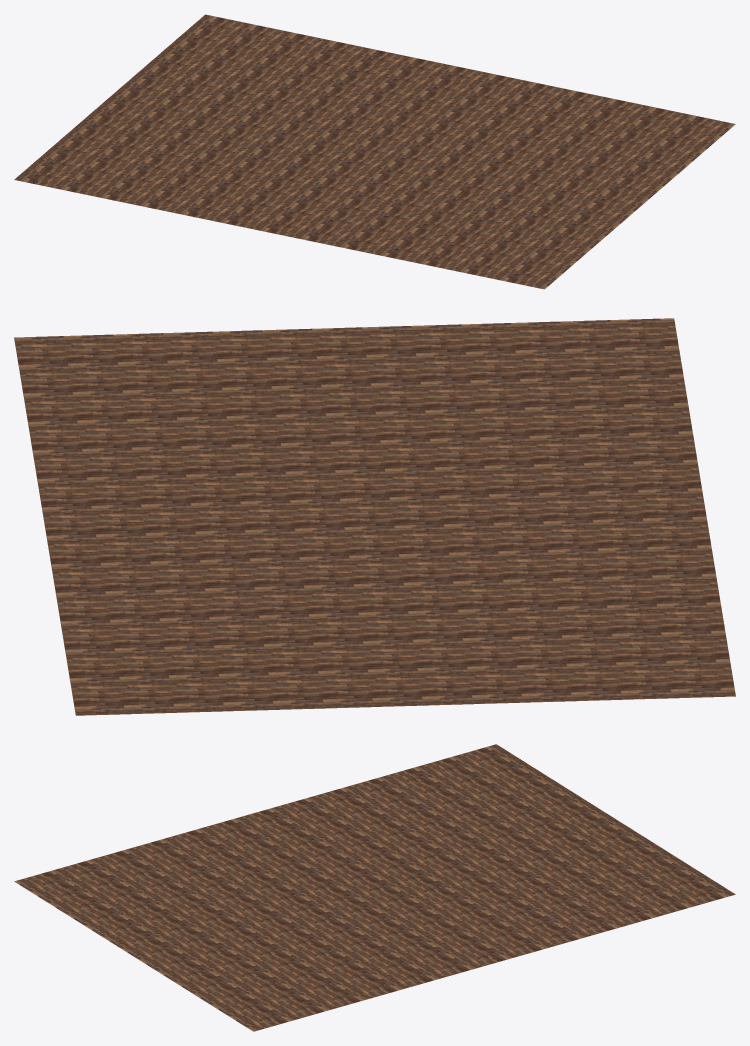
File: floor.glb
The picture shows the model from 3 angles, top to bottom: view 1: azimuth 30°, elevation 25°; view 2: azimuth 150°, elevation 25°; view 3: azimuth 270°, elevation 25°; orthographic projection. The views are drawn at different scales.
Parts seen in each view (by area): view 1: hall.001; view 2: hall.001; view 3: hall.001.
Boxes of the visible parts, x1,y1,x2,y2 form: hall.001: (14, 14, 735, 289); hall.001: (14, 318, 735, 715); hall.001: (14, 744, 735, 1031).
Bounding box in the file's own units: 35.31 × 0 × 37.46.
Materials: 1 (1 with a texture image).
